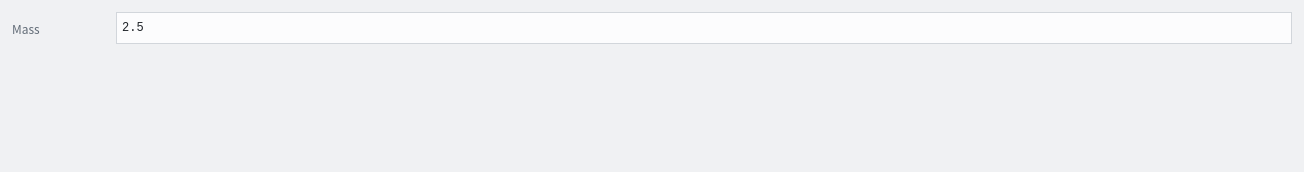
Scenario: scientific NumberField › commits finite direct input and restores an out-of-range draft
Earlier steps of the test are not shown.
Replace the text in the field named "Mass" with "9" at coordinates (704, 28), box top-left (117, 13), bottom-right (1291, 43)
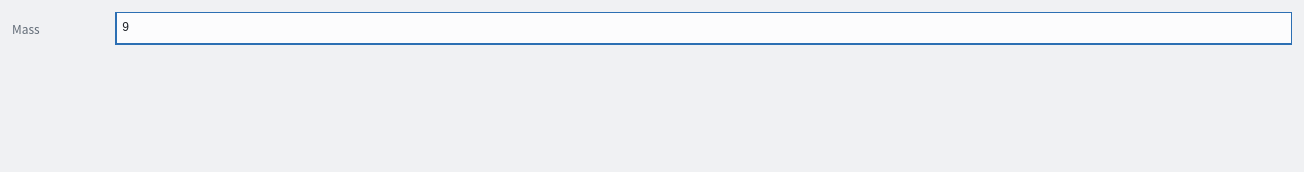
Press Tab
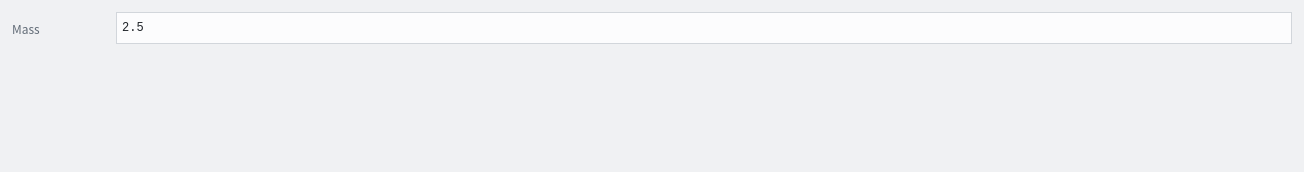
Check: the field named "Mass" holds "2.5", box top-left (117, 13), bottom-right (1291, 43)
